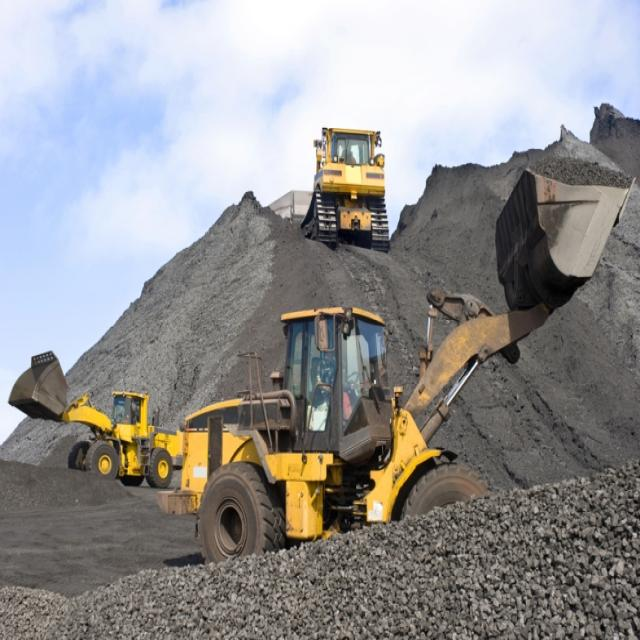buldozerpayloadergrader: (206, 166, 635, 557), (7, 337, 188, 488), (310, 115, 398, 252)
